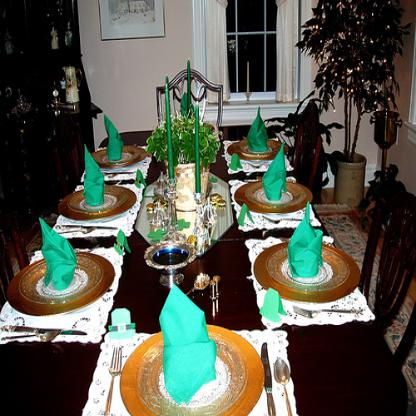chair: (353, 172, 415, 372), (153, 66, 226, 134), (286, 94, 326, 209), (0, 172, 32, 304), (43, 109, 87, 203)
diningtable: (0, 114, 415, 415)
pottedplant: (292, 0, 415, 210), (142, 104, 226, 214)
